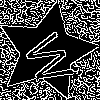W: (21, 27, 84, 89)
